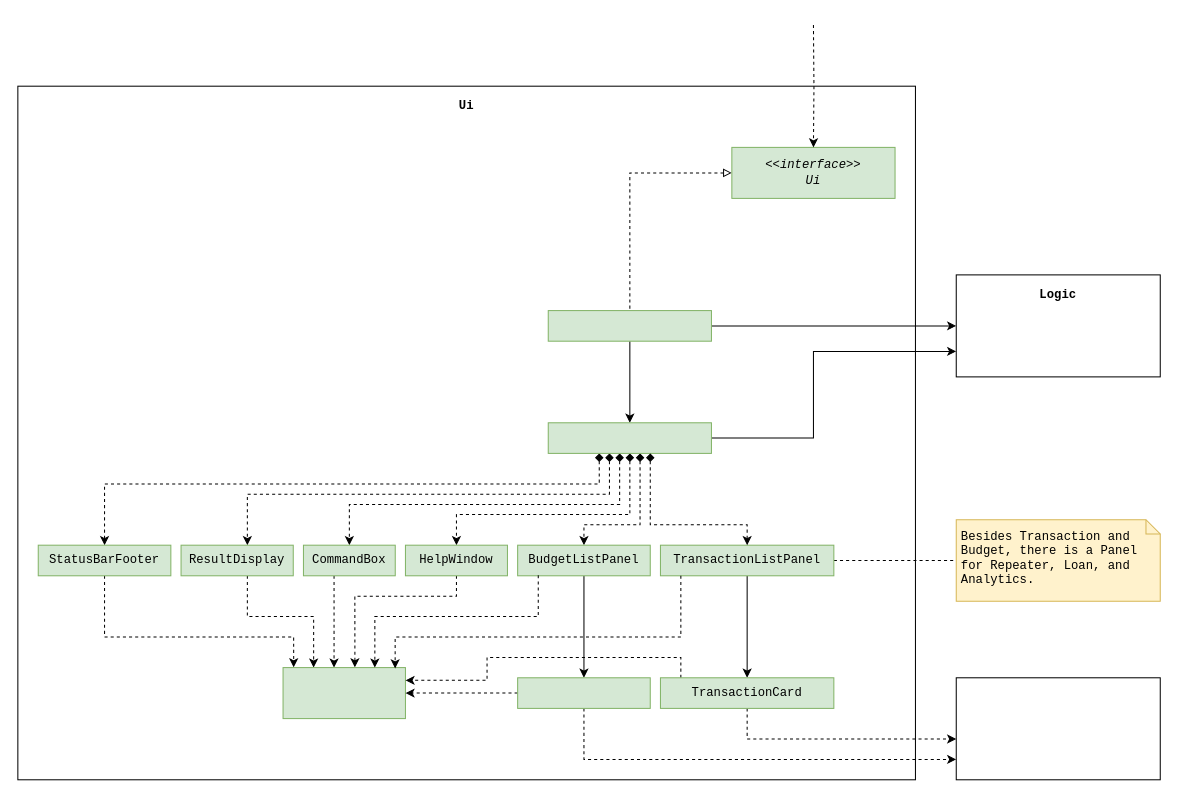
The diagram is 1178 pixels wide and 798 high, and some of its shapes have lost their labels. Here are the shapes that lost their labels. From the top down, the box of each, then its label:
(547, 310, 711, 341): UiManager
(547, 422, 711, 453): MainWindow
(282, 667, 405, 719): {abstract} UiPart
(517, 677, 650, 708): BudgetCard
(955, 677, 1160, 780): Model
